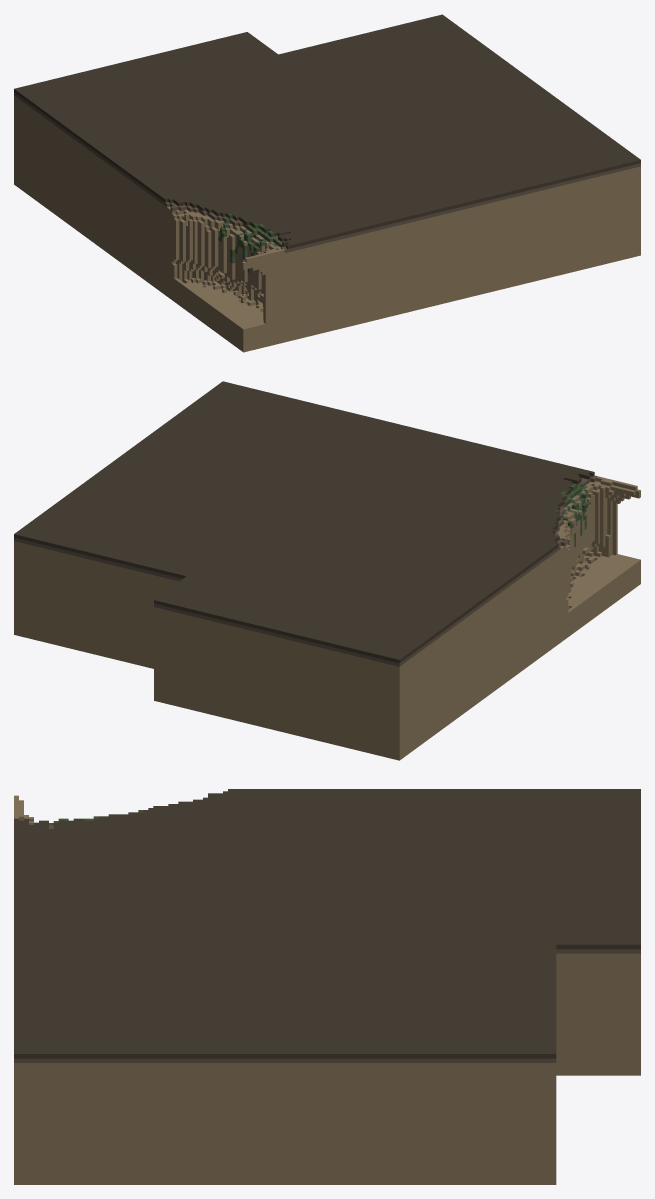
Rendered from Corridor2-3.obj.
3 renders of one model, top to bottom at view 1: azimuth 30°, elevation 25°; view 2: azimuth 150°, elevation 25°; view 3: azimuth 270°, elevation 25°, orthographic. The views are drawn at different scales.
Size of the model in its own units: 12.6 by 2.9 by 12.6.
